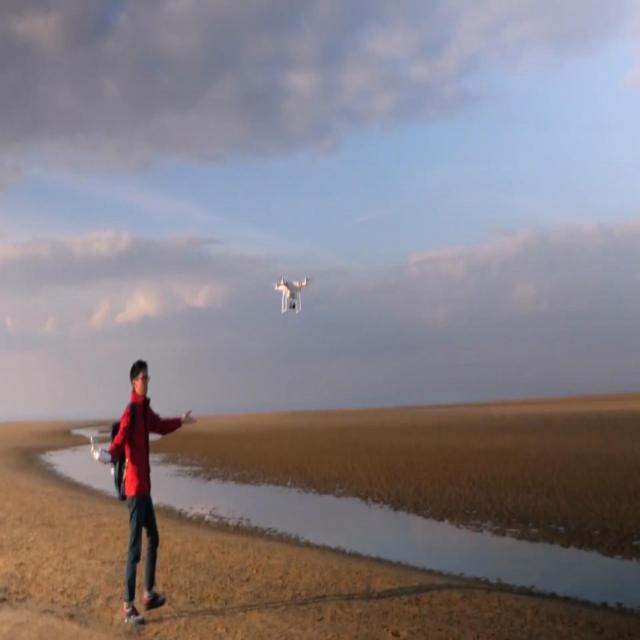drones: (273, 271, 302, 316)
